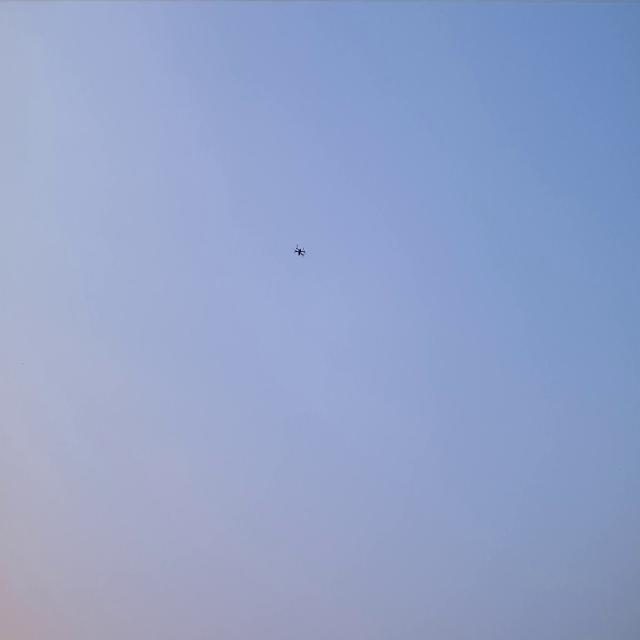UAV: (292, 244, 308, 258)
